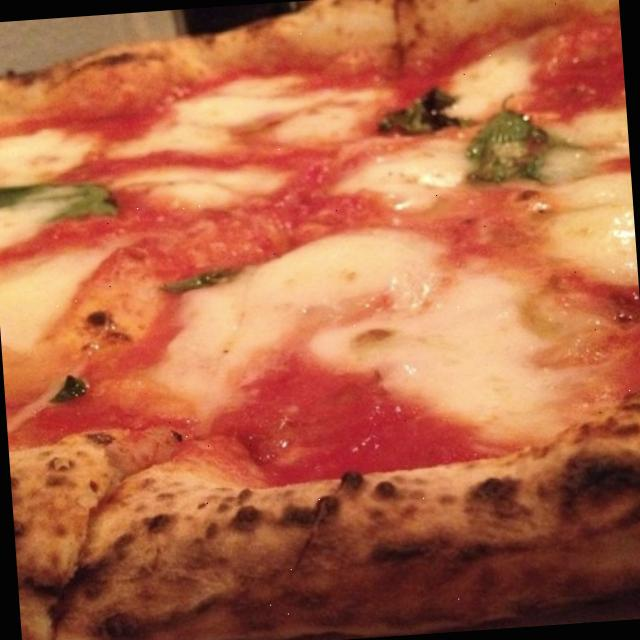basil: (462, 100, 556, 182), (0, 169, 113, 226), (373, 80, 460, 139), (157, 262, 255, 300), (44, 369, 93, 408)
pizza: (0, 0, 640, 640)
